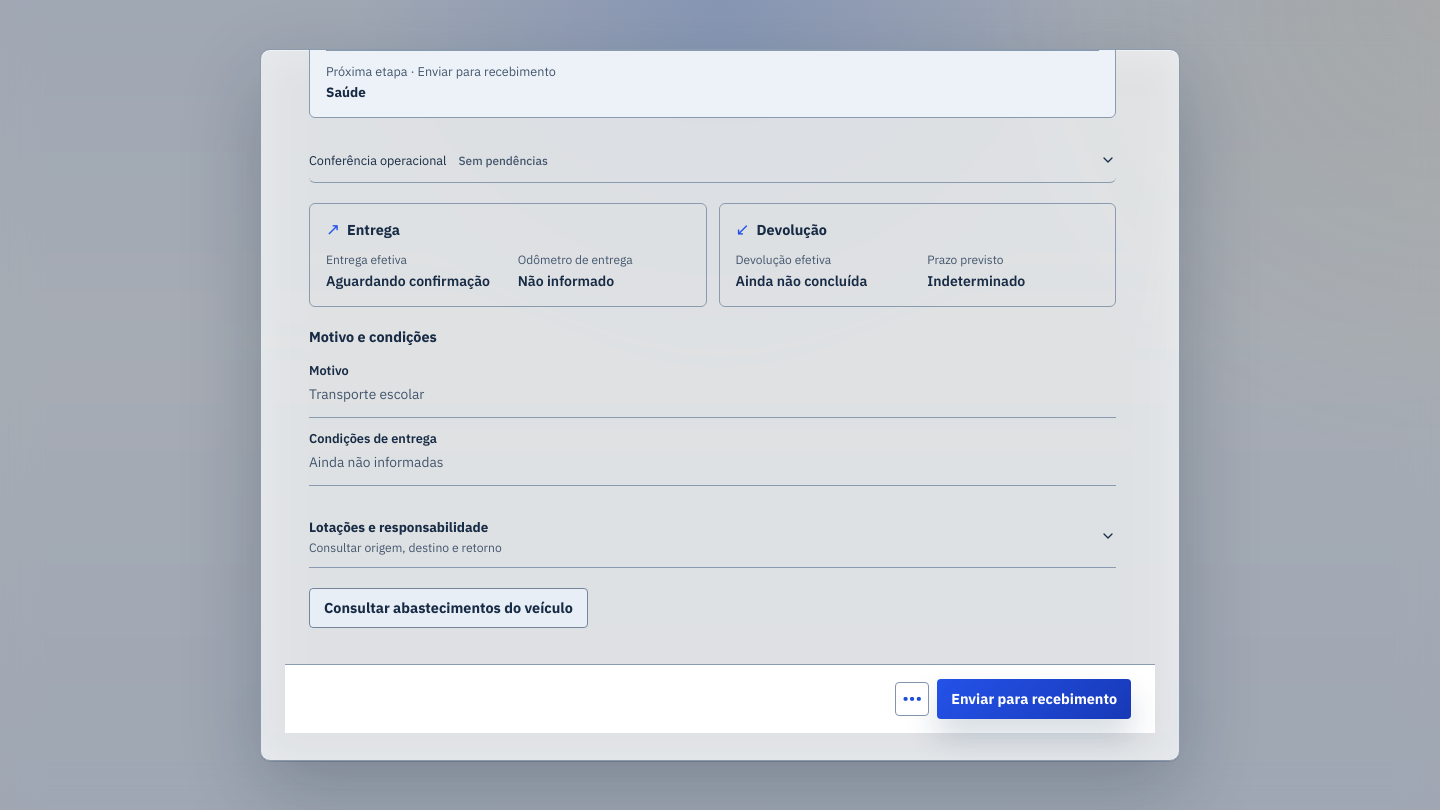
Test case: mantém a ação principal de DRAFT no rodapé e as demais no menu
(page scrolled)
Expected: the footer "Enviar para recebimento" is shown, [285,664,1155,733]
Click the button "Enviar para recebimento": (1034, 699) [937,679,1131,719]
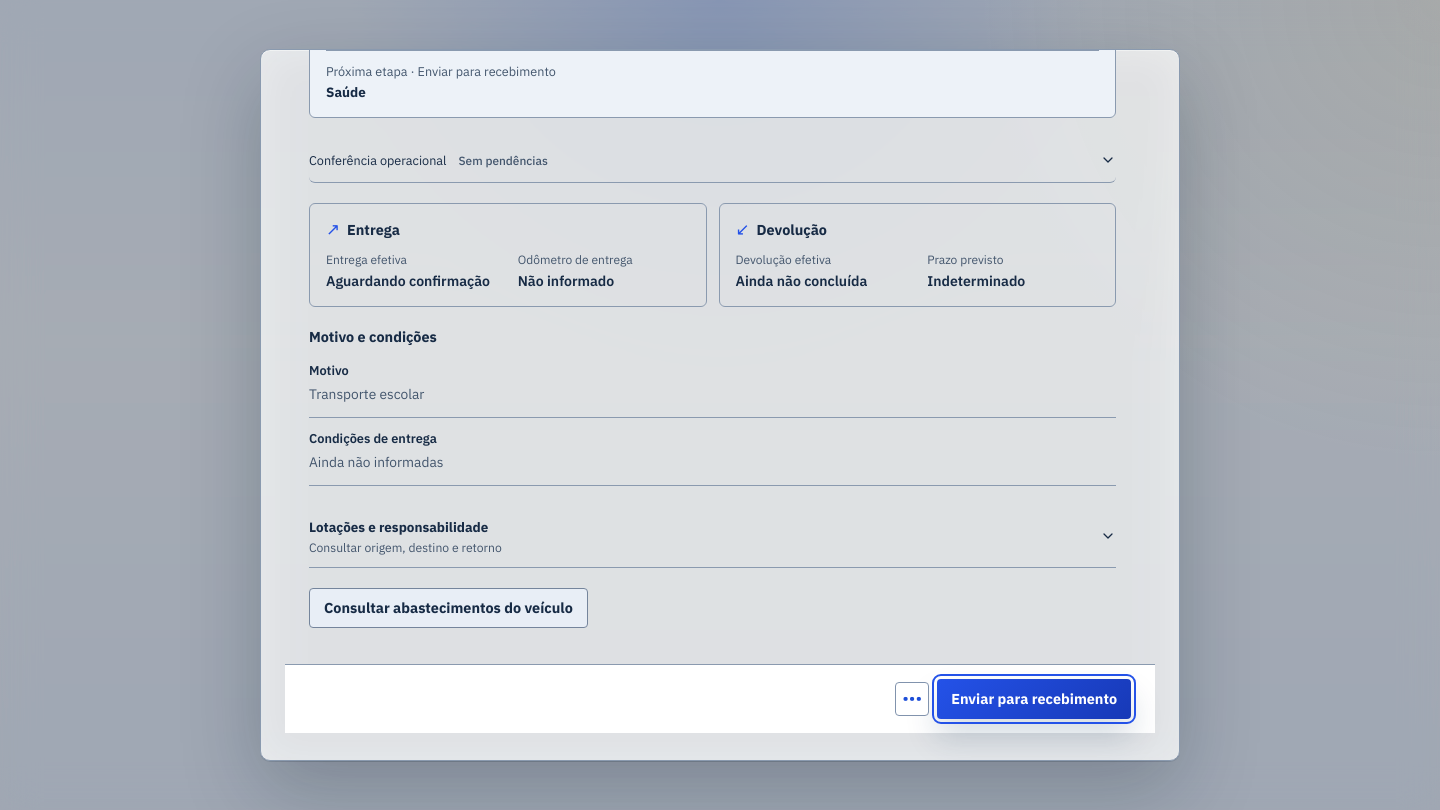
Click the button named "Mais ações do empréstimo de ABC1234": (912, 699) [895,682,929,716]
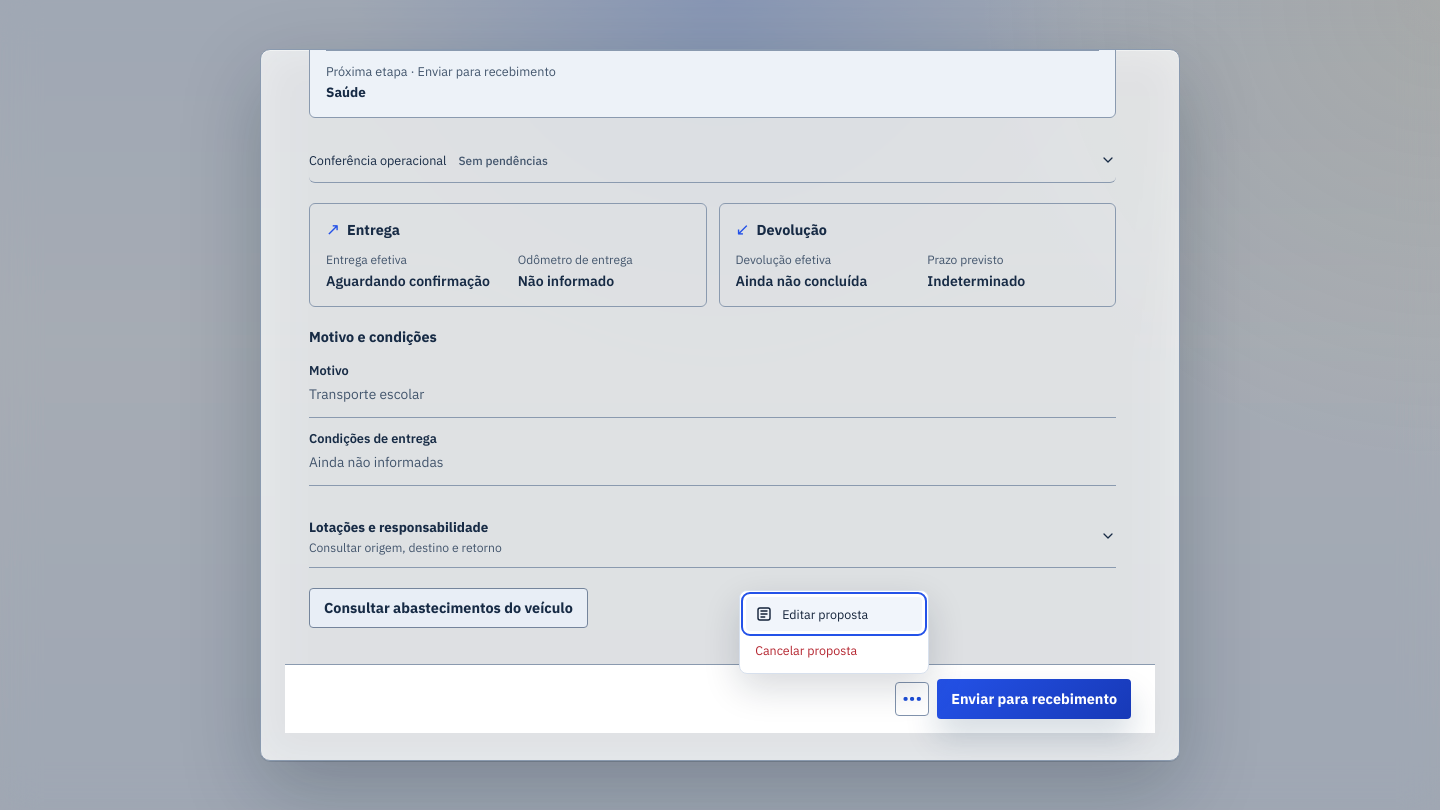
Now the menu item "Cancelar proposta" is enabled, box [746,633,922,667]
